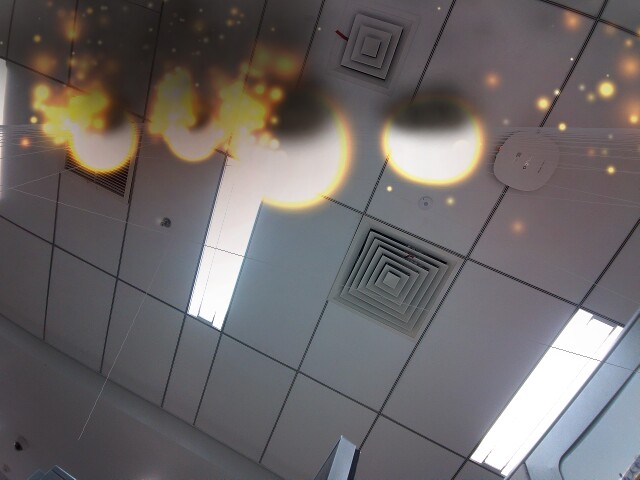fire: (232, 93, 351, 211), (379, 85, 488, 190), (66, 108, 140, 178), (159, 111, 221, 168)
